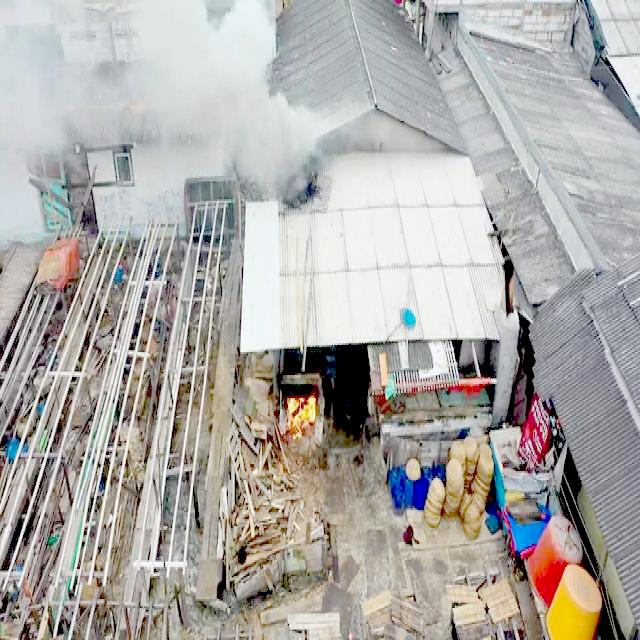smoke: (4, 1, 148, 150), (127, 0, 232, 174), (216, 5, 278, 164), (258, 89, 320, 202), (0, 134, 40, 232)
